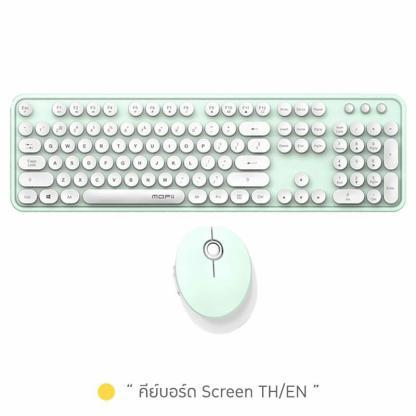keyboard: (8, 92, 408, 214)
